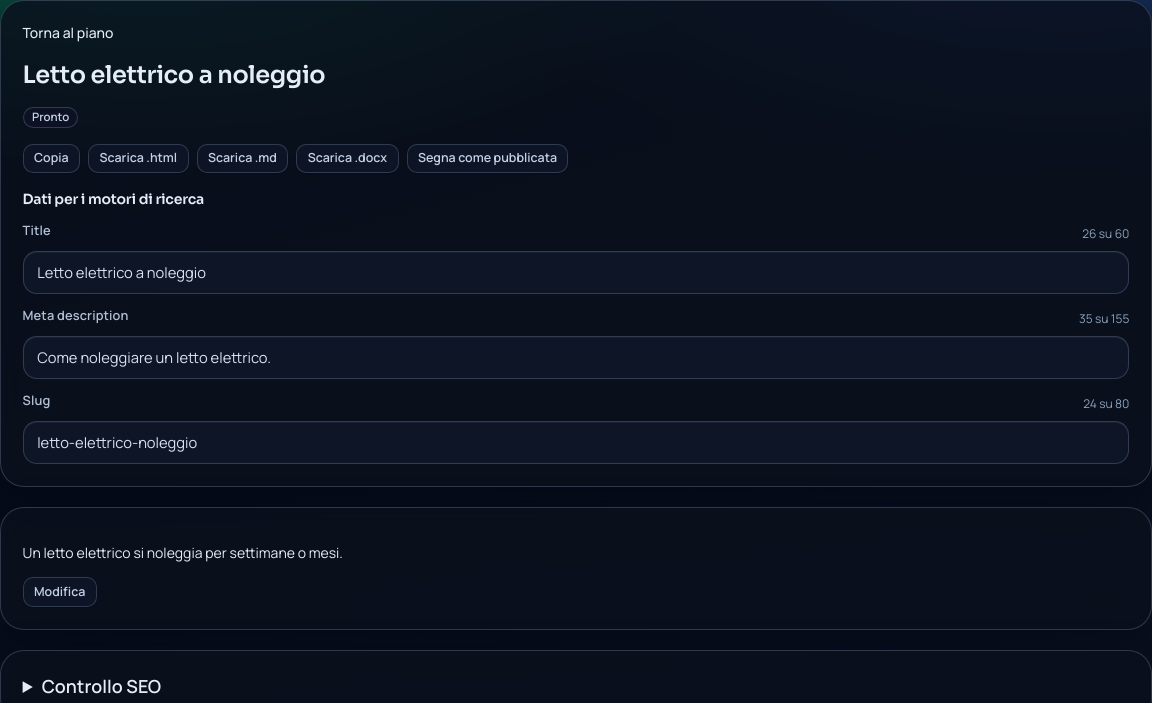
it: «Segna come pubblicata» › l'indirizzo è precompilato con il sito più lo slug e la PATCH della pagina porta la pagina a PUBLISHED
Click the button "Segna come pubblicata": (487, 158) [406,144,568,173]
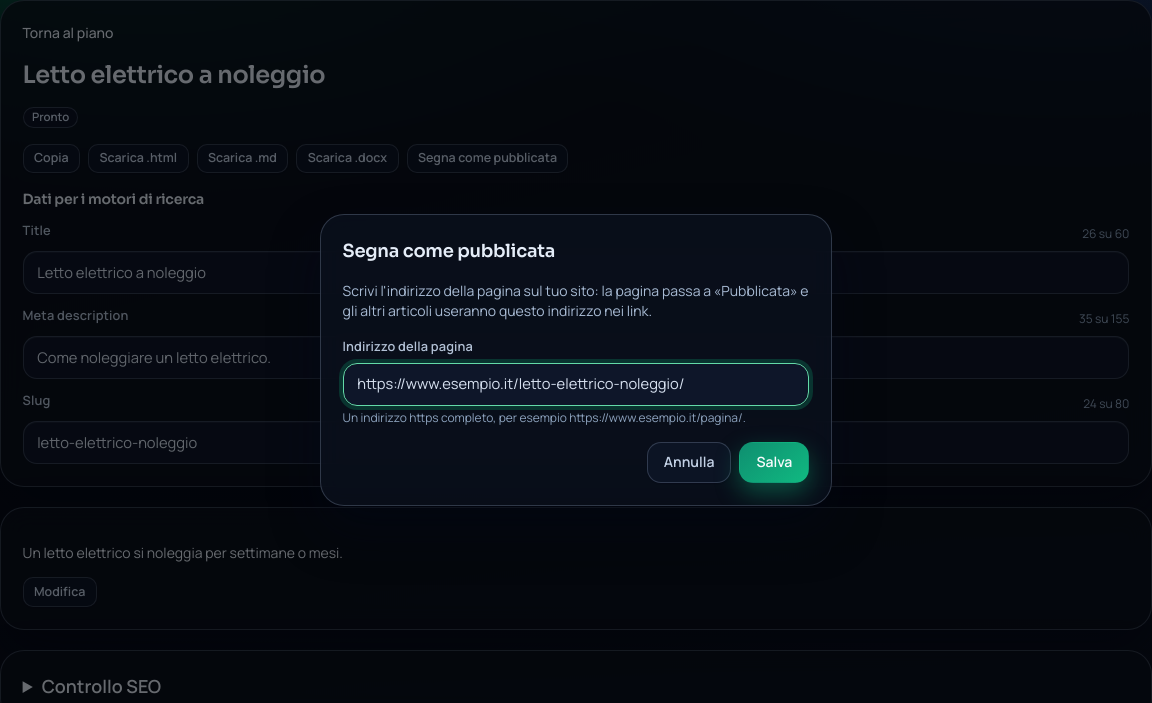
Now the field labelled "Indirizzo della pagina" holds "https://www.esempio.it/letto-elettrico-noleggio/", box [343,362,809,406]
Click the button "Salva": (774, 462) [739,442,809,483]
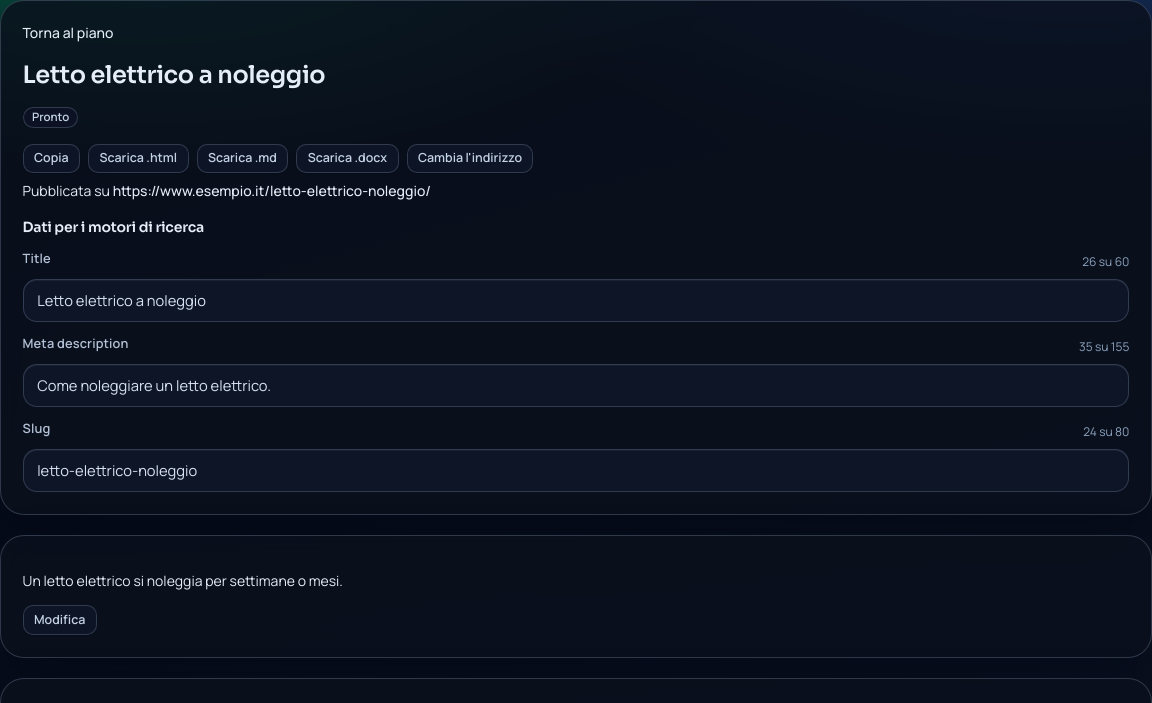
Now the dialog is gone
Now the button "Cambia l'indirizzo" is shown, box [406,144,533,173]
